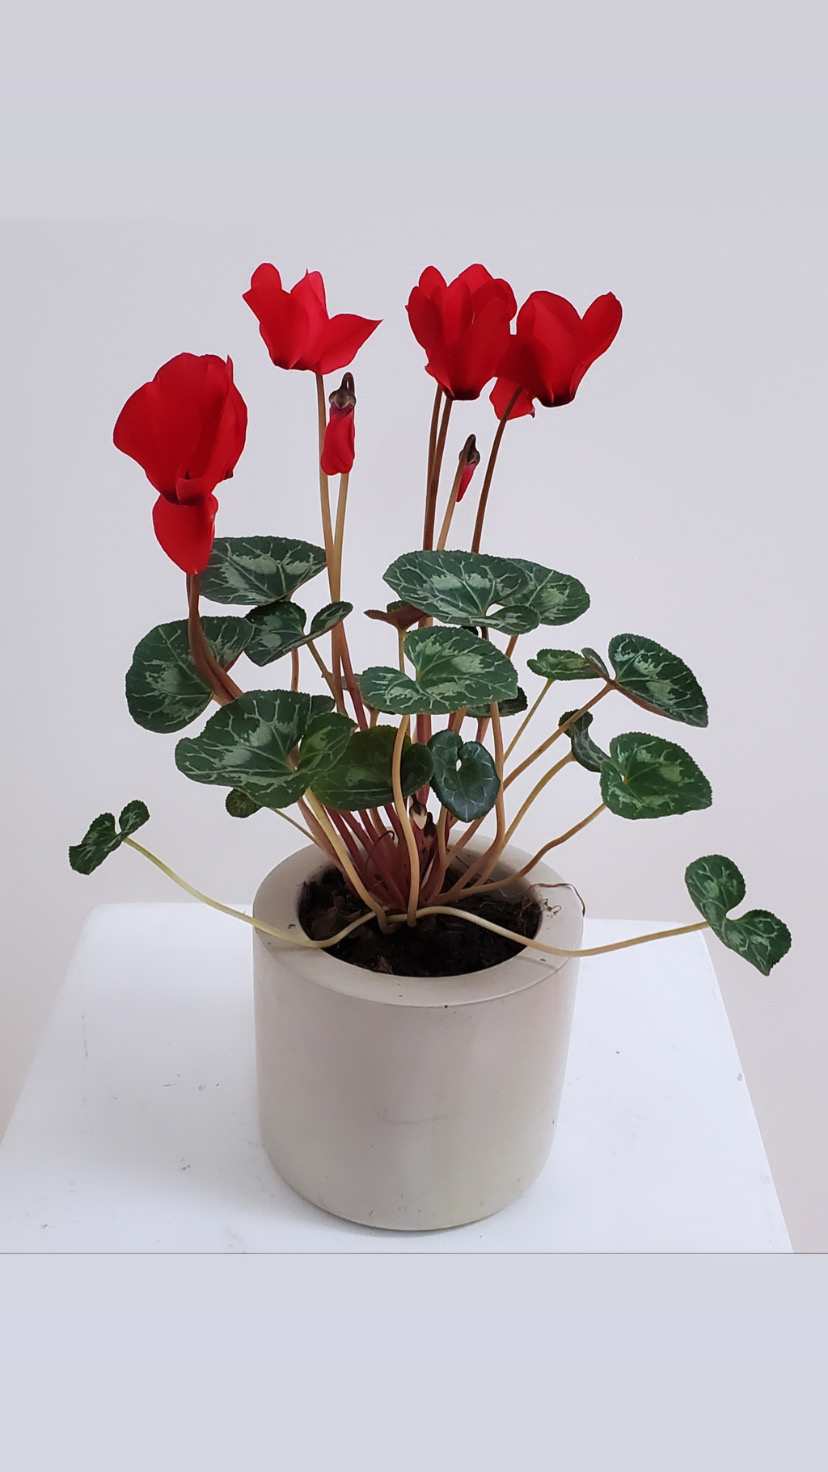tanaman: (88, 244, 770, 1240)
